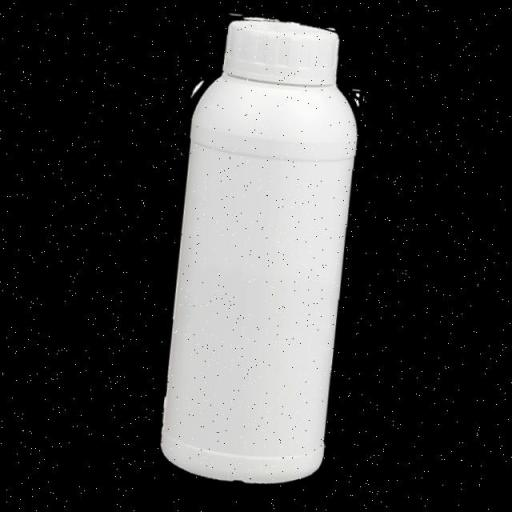plastic: (136, 5, 384, 497)
